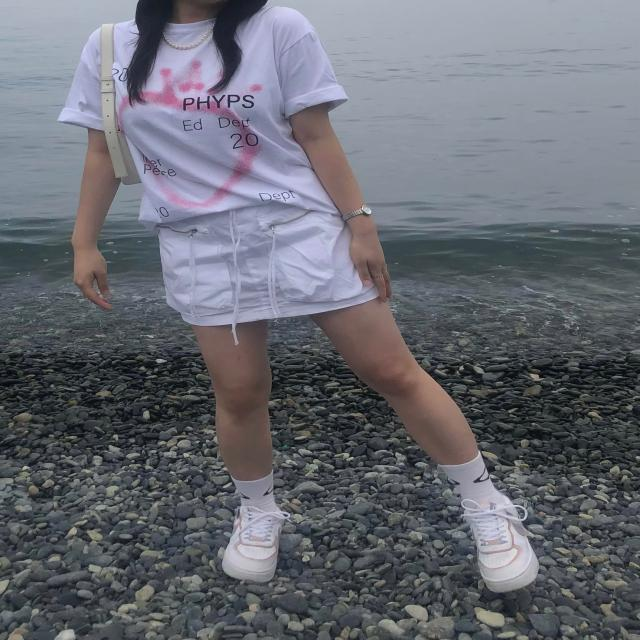shortsleeve: (59, 8, 353, 222)
skirt: (155, 199, 385, 328)
